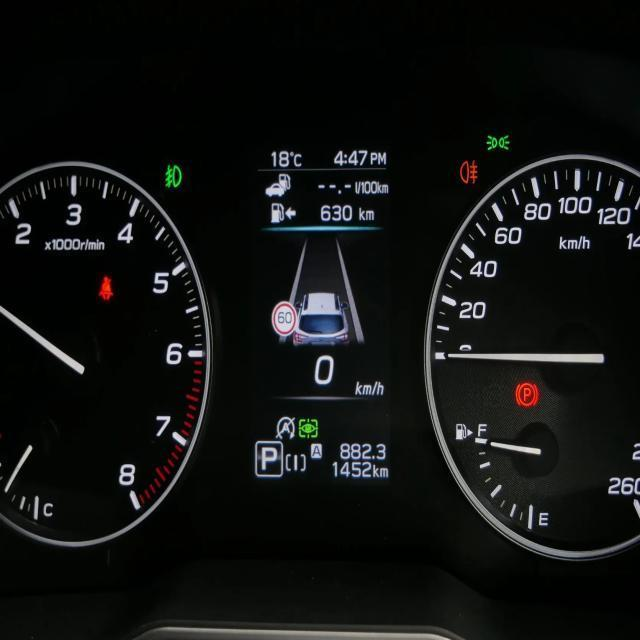Seat Belt: (98, 276, 112, 302)
